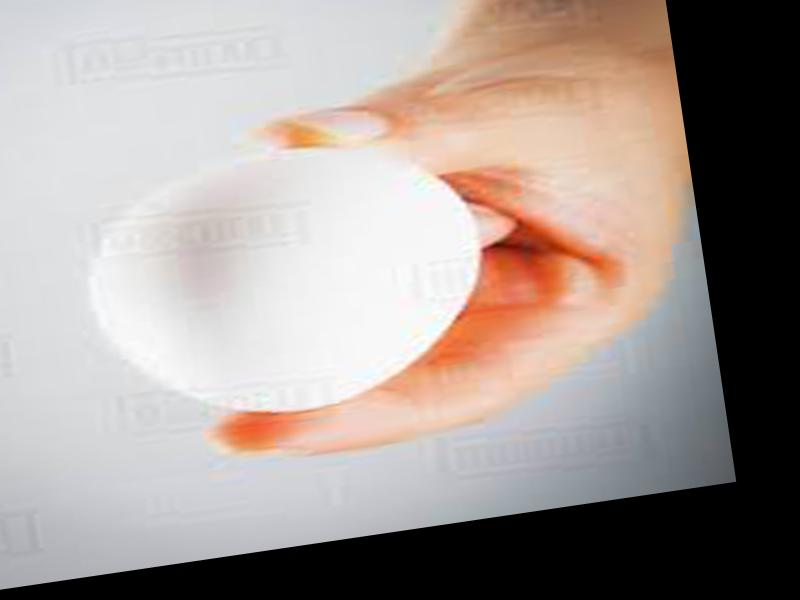Eggs: (78, 126, 484, 439)
